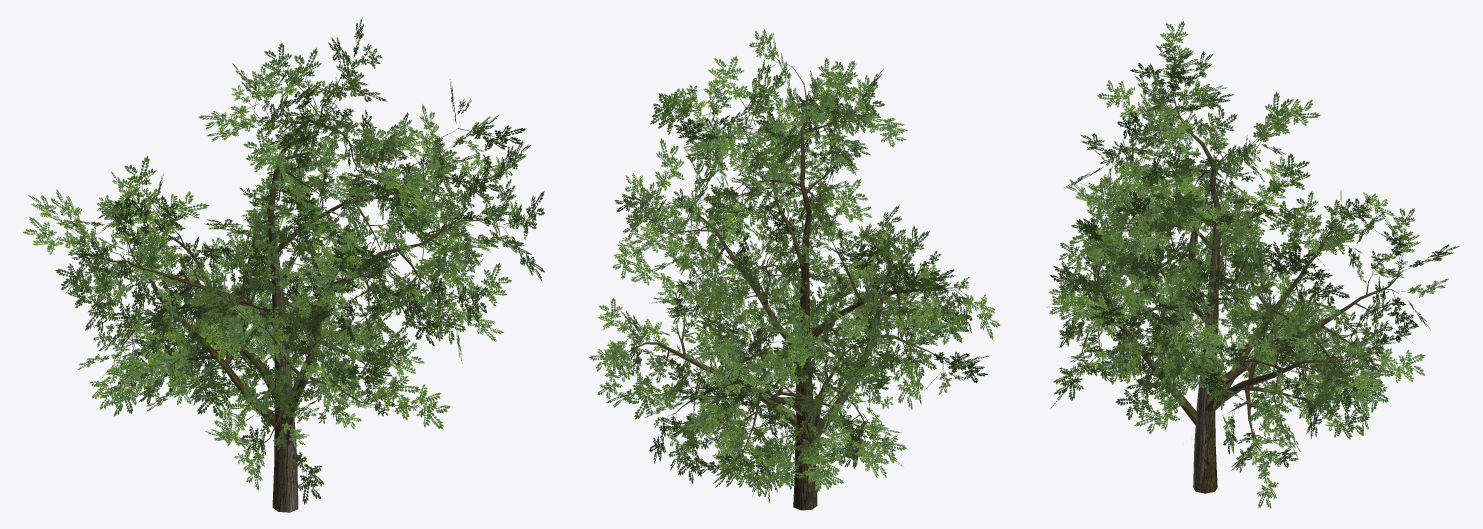
File: ash_sparse.glb
The picture shows the model from 3 angles, left to right: view 1: azimuth 30°, elevation 25°; view 2: azimuth 150°, elevation 25°; view 3: azimuth 270°, elevation 25°; orthographic projection. The views are drawn at different scales.
Parts seen in each view (by area): view 1: Tree; view 2: Tree; view 3: Tree.
Boxes of the visible parts, x1,y1,x2,y2 form: Tree: (22,17,544,512); Tree: (589,29,1000,510); Tree: (1046,21,1459,508).
Bounding box in the file's own units: 79.46 × 81.02 × 69.15.
2 materials, 2 textured.
